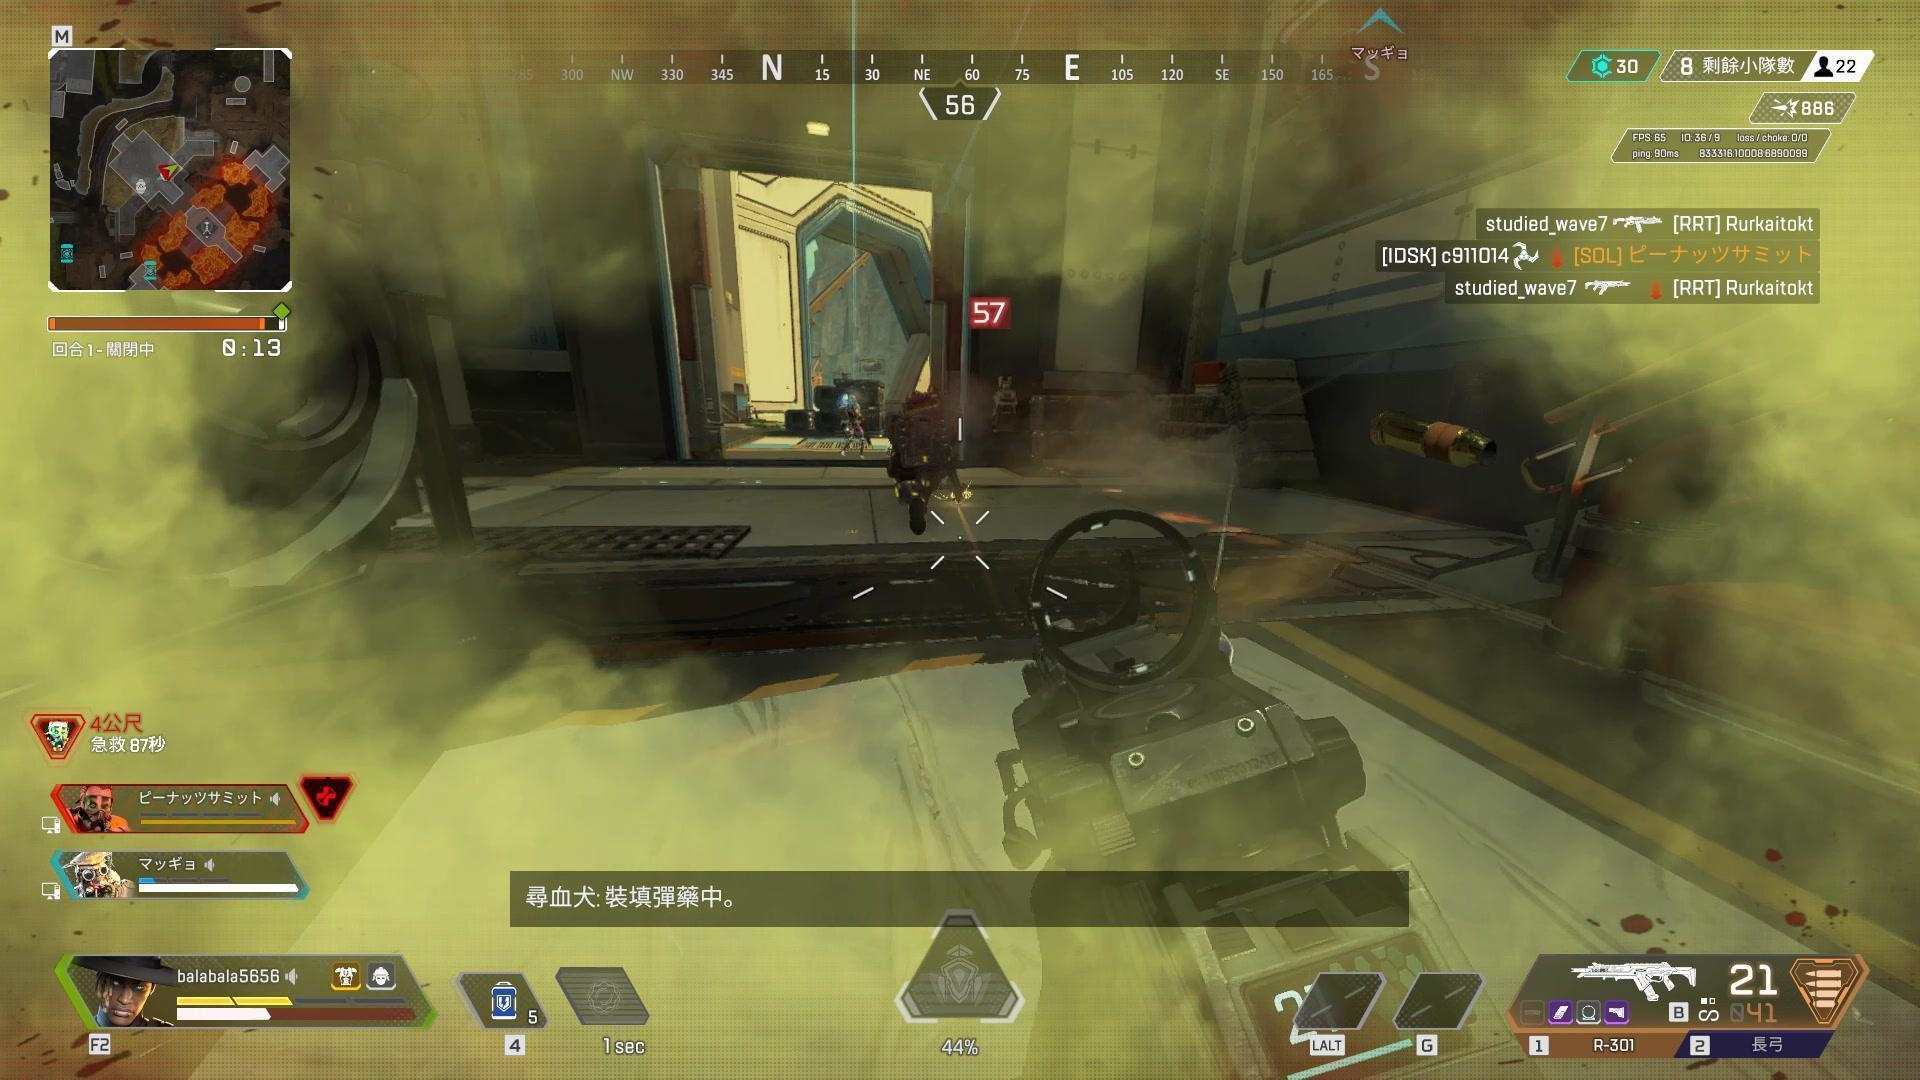avatar: (838, 390, 867, 457)
